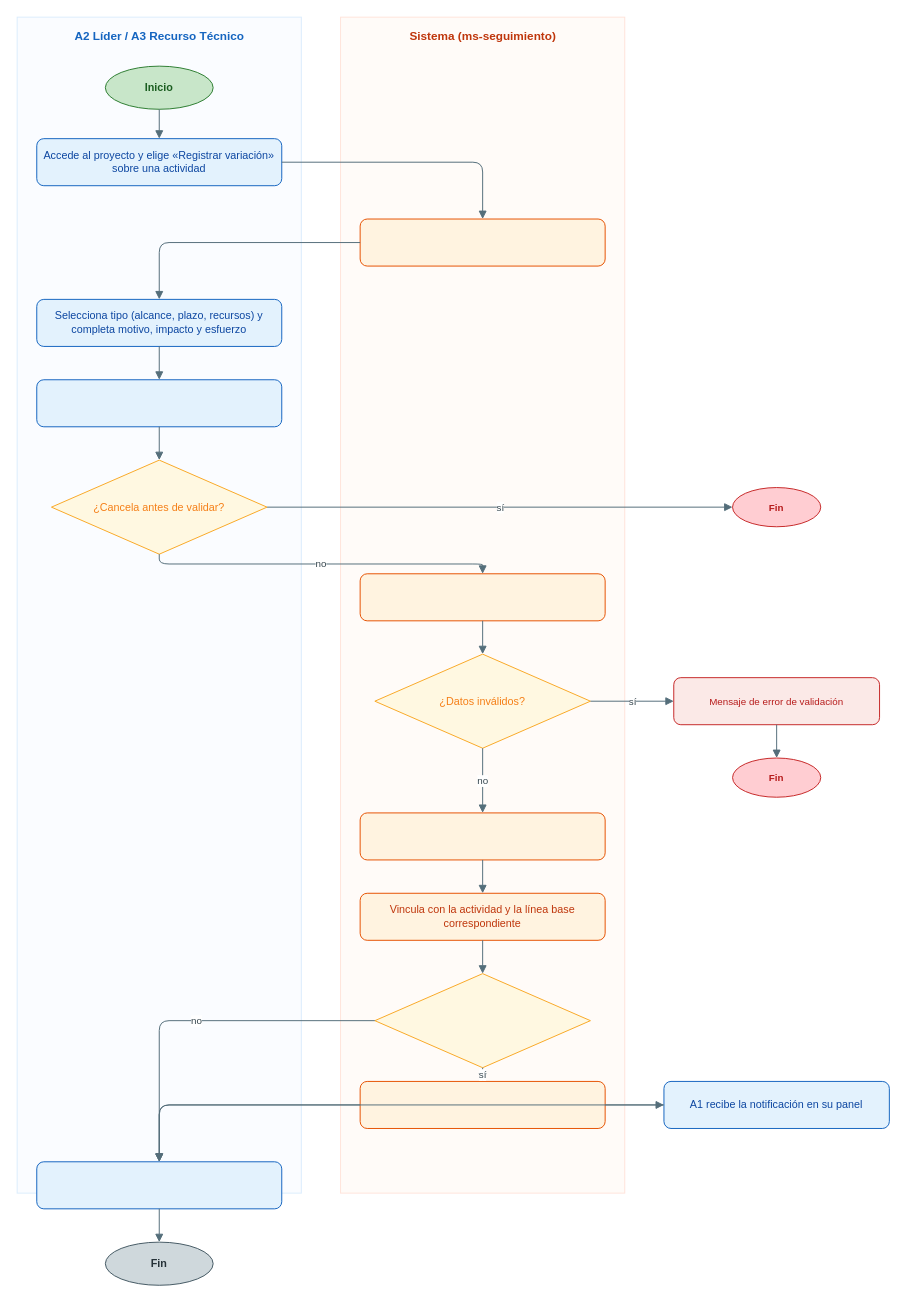
Image size: 907x1302. Some labels were removed from this diagram. The shapes that lost their labels are listed below. From the top down, each one's centre as x and y in pixels, then its label:
At (x=482, y=242): "Muestra formulario (tipo, motivo, impacto, esfuerzo, costo)".
At (x=159, y=403): "Adjunta evidencia (opcional) y pulsa «Guardar»".
At (x=482, y=597): "Recibe POST /api/variaciones y valida campos obligatorios".
At (x=482, y=836): "Persiste la variación en mss_variacion".
At (x=482, y=1020): "¿El impacto afecta a la línea base?".
At (x=482, y=1104): "Marca «pendiente de aprobación» y notifica al Jefe del Área (A1)".
At (x=159, y=1185): "El sistema confirma el registro de la variación".
